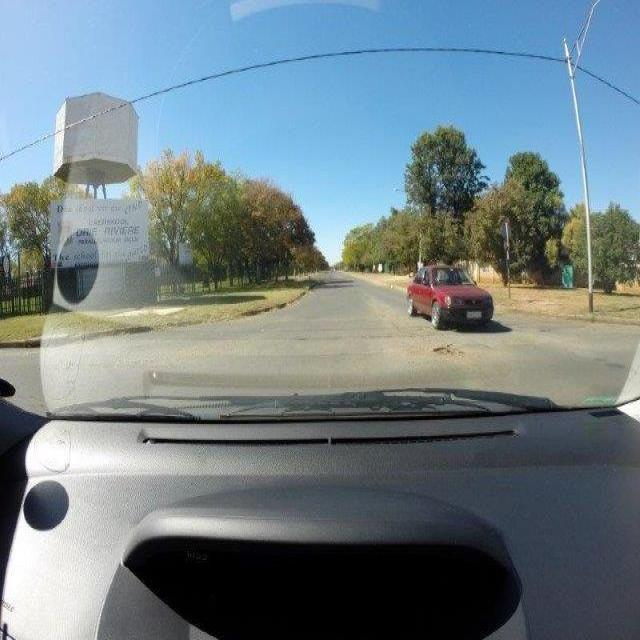lubang: (431, 336, 467, 363)
